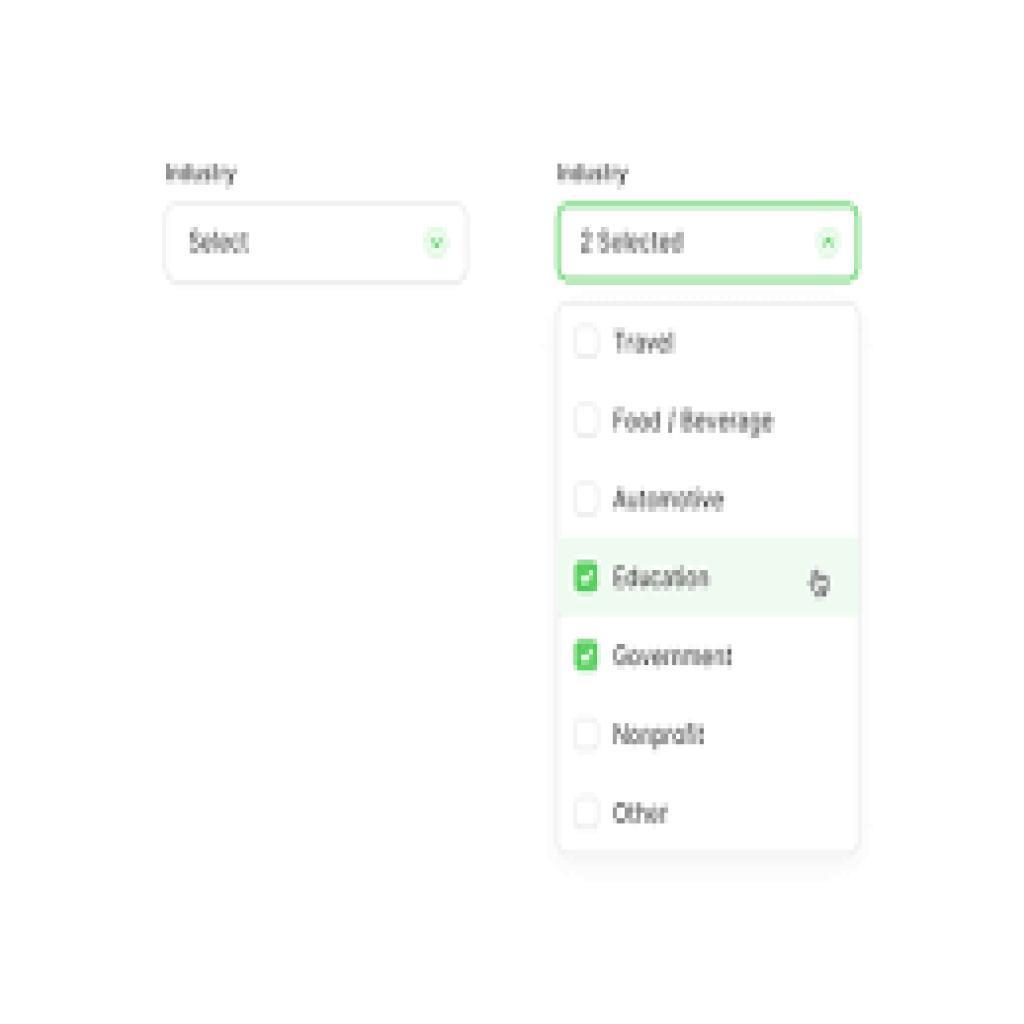checkbox: (572, 559, 601, 598), (573, 480, 600, 520), (574, 798, 602, 832), (573, 637, 598, 673), (576, 404, 601, 439), (576, 721, 602, 754), (576, 327, 602, 358)
dropdown: (559, 199, 863, 285), (166, 205, 470, 286)
